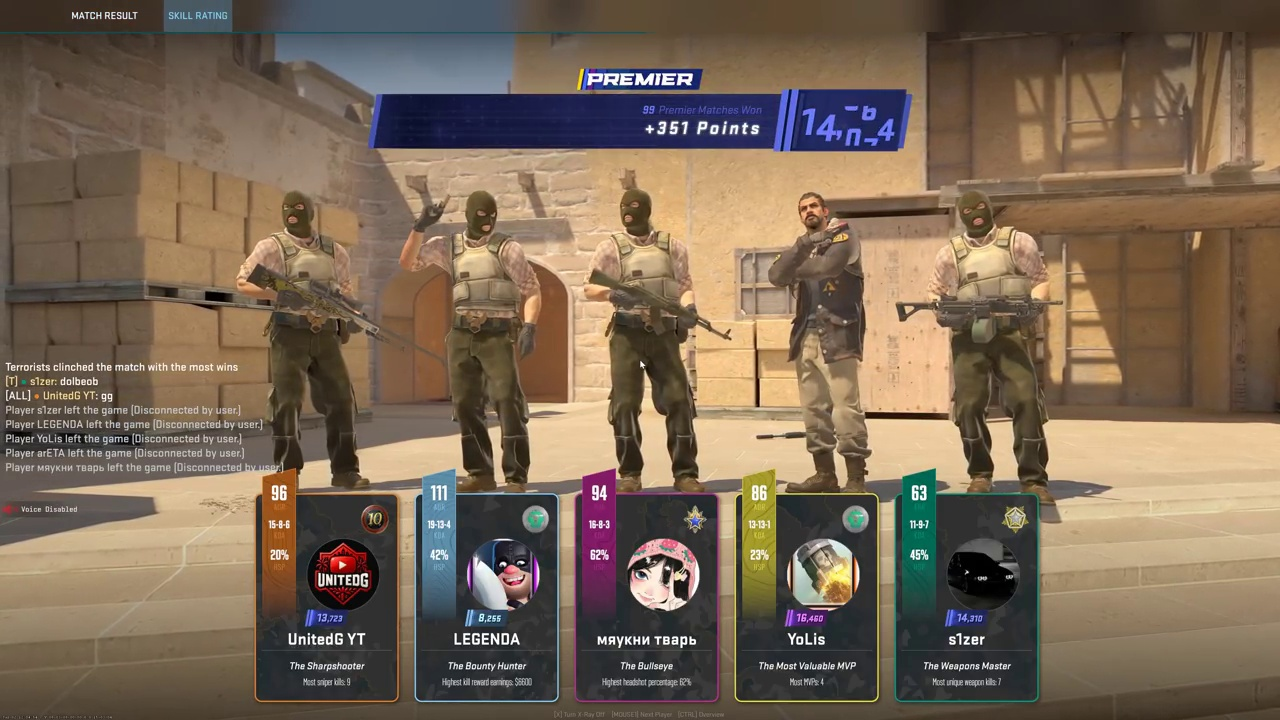Terrorist: (930, 190, 1052, 499), (251, 190, 364, 493), (599, 187, 704, 491), (769, 193, 867, 492), (436, 191, 533, 486)
